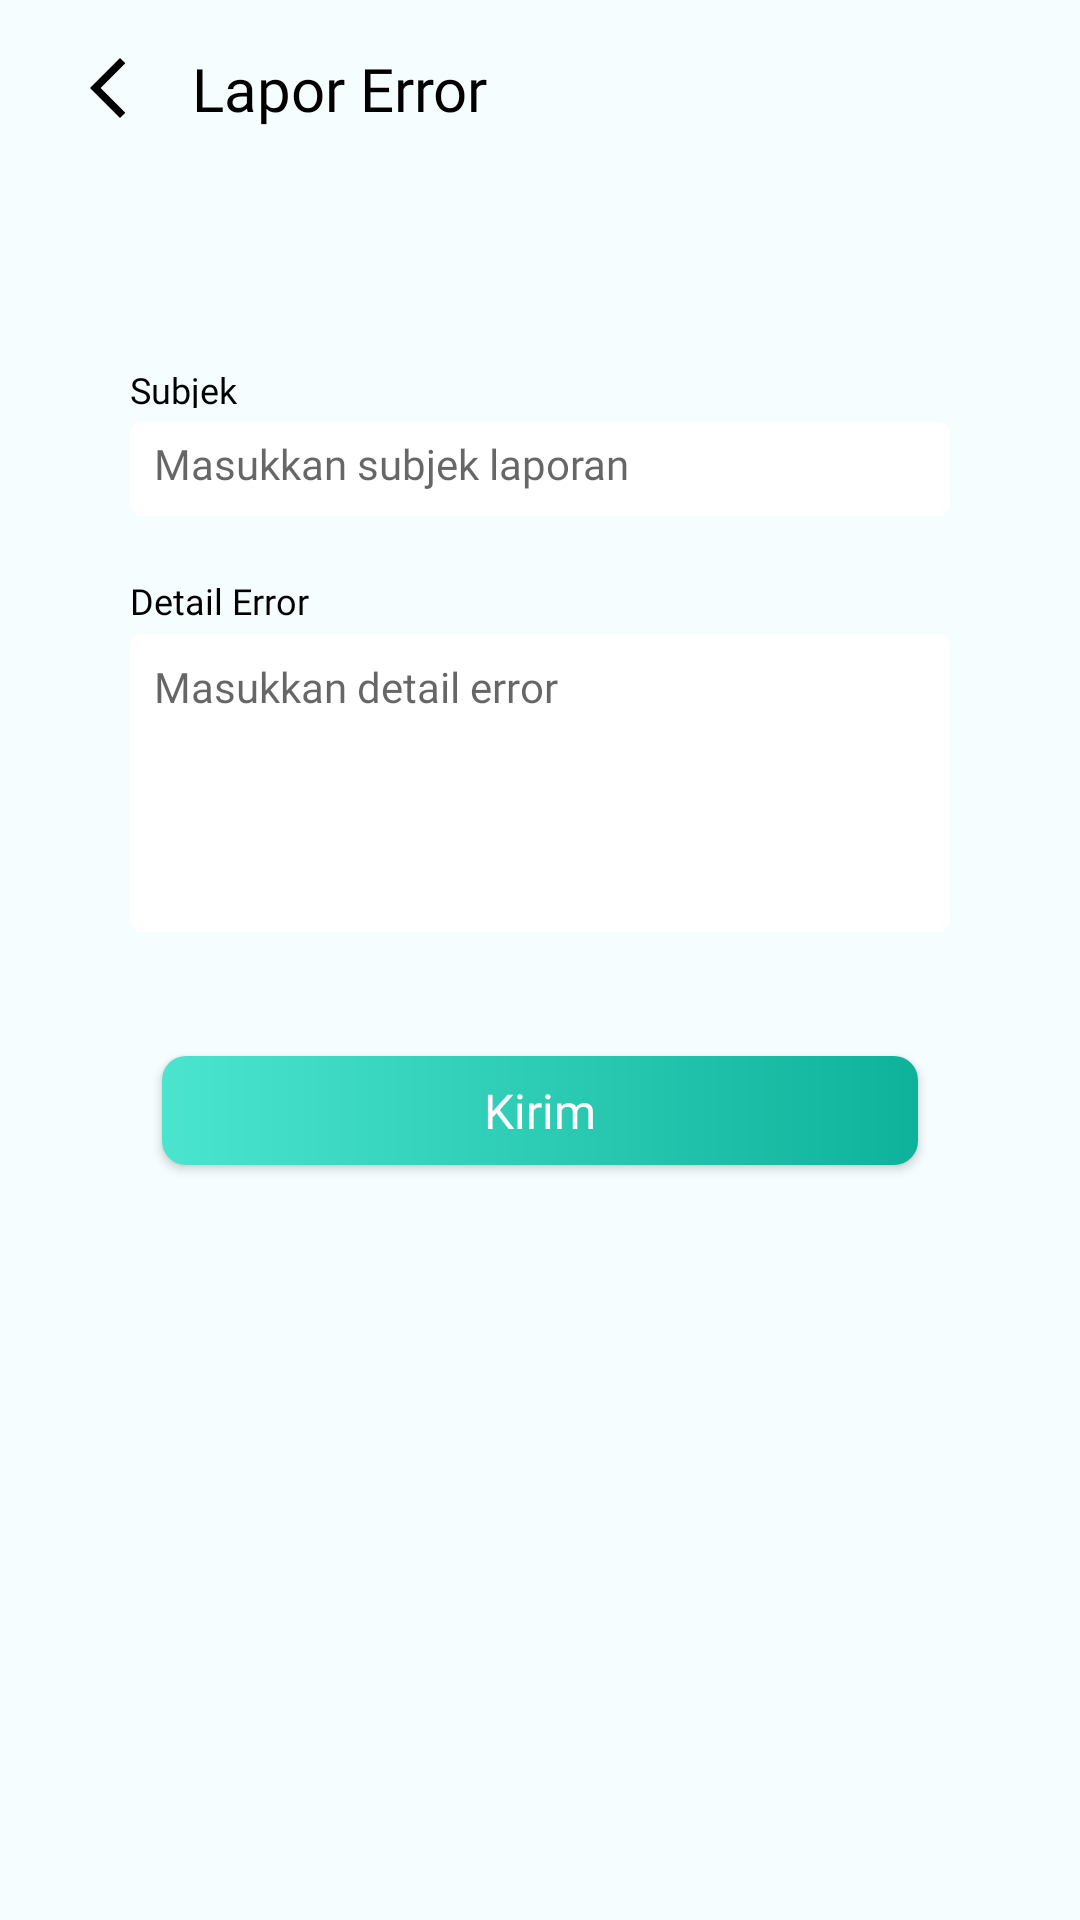

Point at icon controls on the screen. Image size 1080px×1920px, points as (x=x, y=y).
arrow back: (x=107, y=88)
